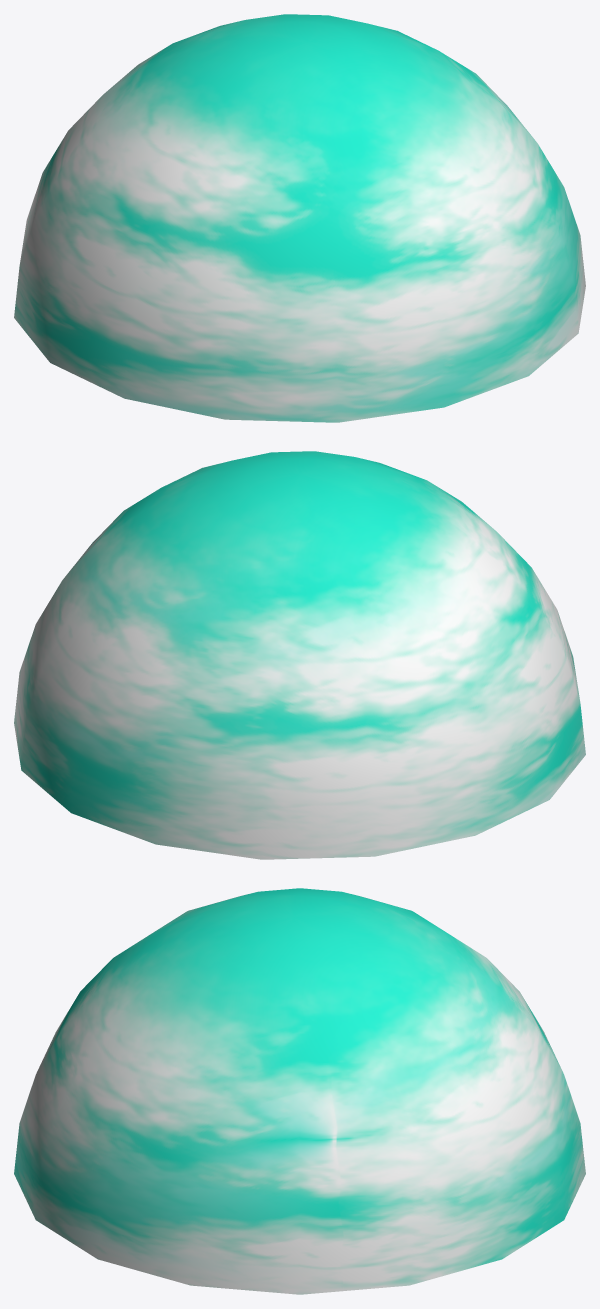
File: SkyboxWhiteInvertedSmooth.fbx
3 renders of one model, top to bottom at view 1: azimuth 30°, elevation 25°; view 2: azimuth 150°, elevation 25°; view 3: azimuth 270°, elevation 25°, orthographic.
Parts seen in each view (by area): view 1: Cube; view 2: Cube; view 3: Cube.
Part boxes in pixels (x1,y1,x2,y2): Cube: [14, 14, 585, 422]; Cube: [14, 451, 585, 859]; Cube: [14, 888, 585, 1294].
Size of the model in its own units: 200 by 100 by 200.
1 material, 1 textured.
